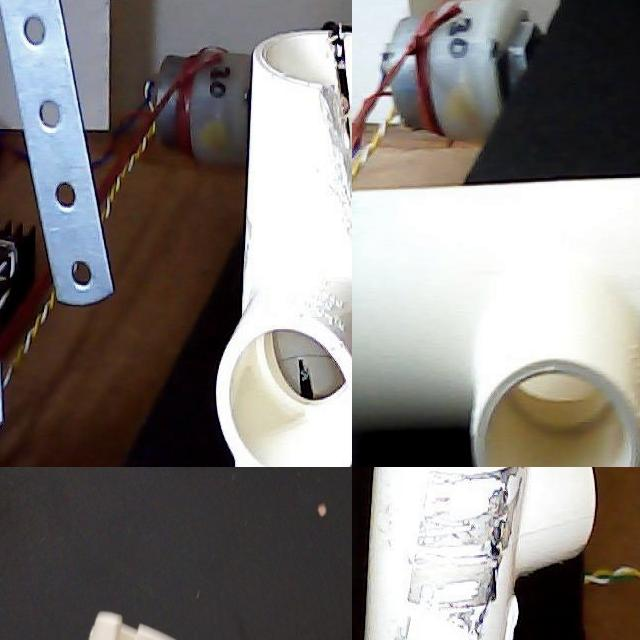Defective: (278, 21, 352, 309), (395, 467, 513, 638), (265, 341, 341, 428), (315, 92, 348, 205), (202, 567, 263, 625), (370, 599, 427, 640), (494, 575, 520, 640), (331, 39, 349, 114)
L Joint: (74, 517, 259, 640)
T Joint: (352, 178, 640, 467), (364, 467, 596, 640)
